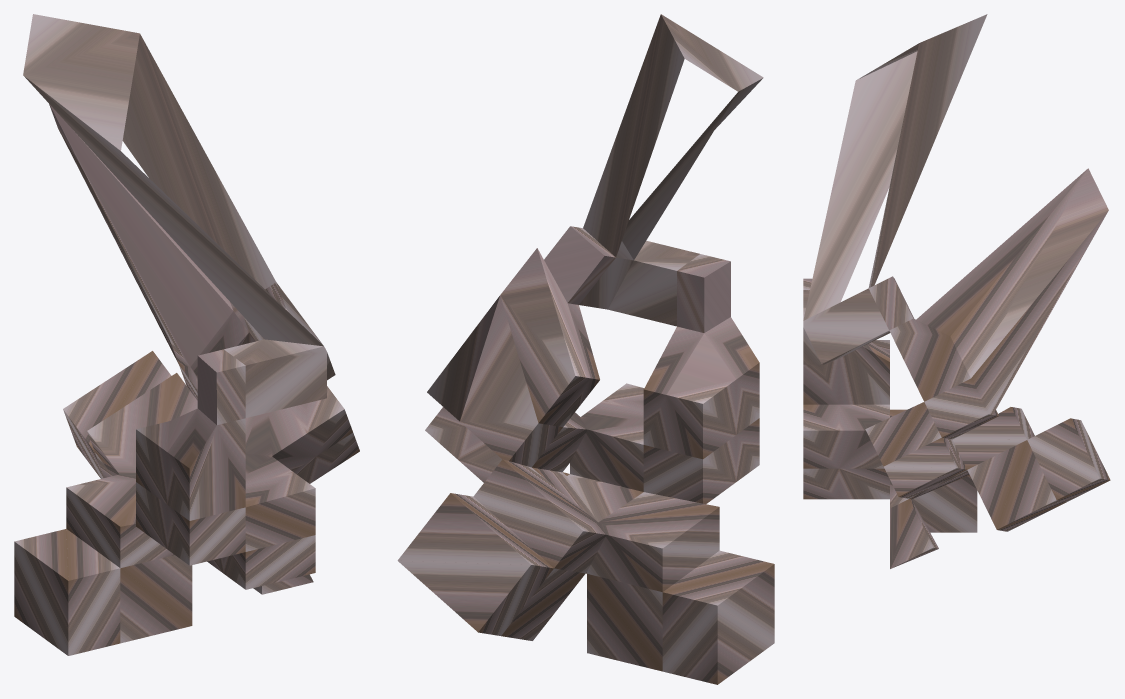
The model's file is Project01.obj.
3 views of the same model, side by side, from view 1: azimuth 30°, elevation 25°; view 2: azimuth 150°, elevation 25°; view 3: azimuth 270°, elevation 25° (orthographic). The views are drawn at different scales.
Parts seen in each view (by area): view 1: Cube; view 2: Cube; view 3: Cube.
Boxes of the visible parts, x1,y1,x2,y2 form: Cube: (14,14,359,655); Cube: (397,14,774,684); Cube: (803,14,1110,568).
Bounding box in the file's own units: 32.72 × 70.99 × 35.18.
Materials: 1 (1 with a texture image).
